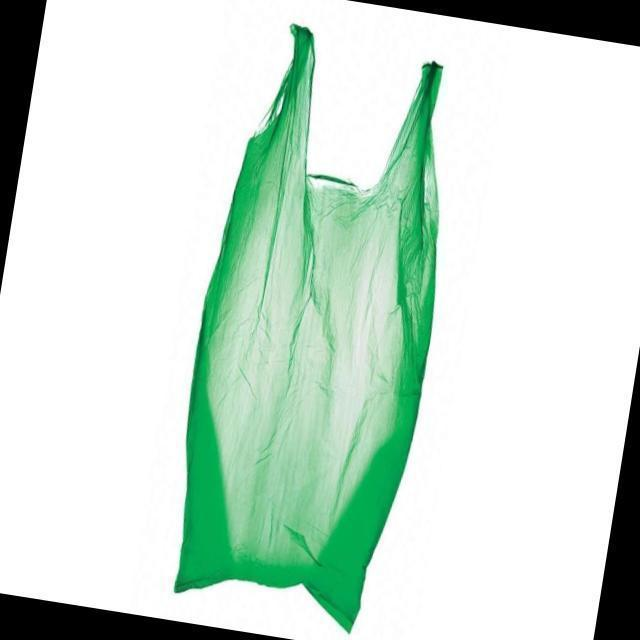Plastic_Bag: (160, 18, 478, 640)
